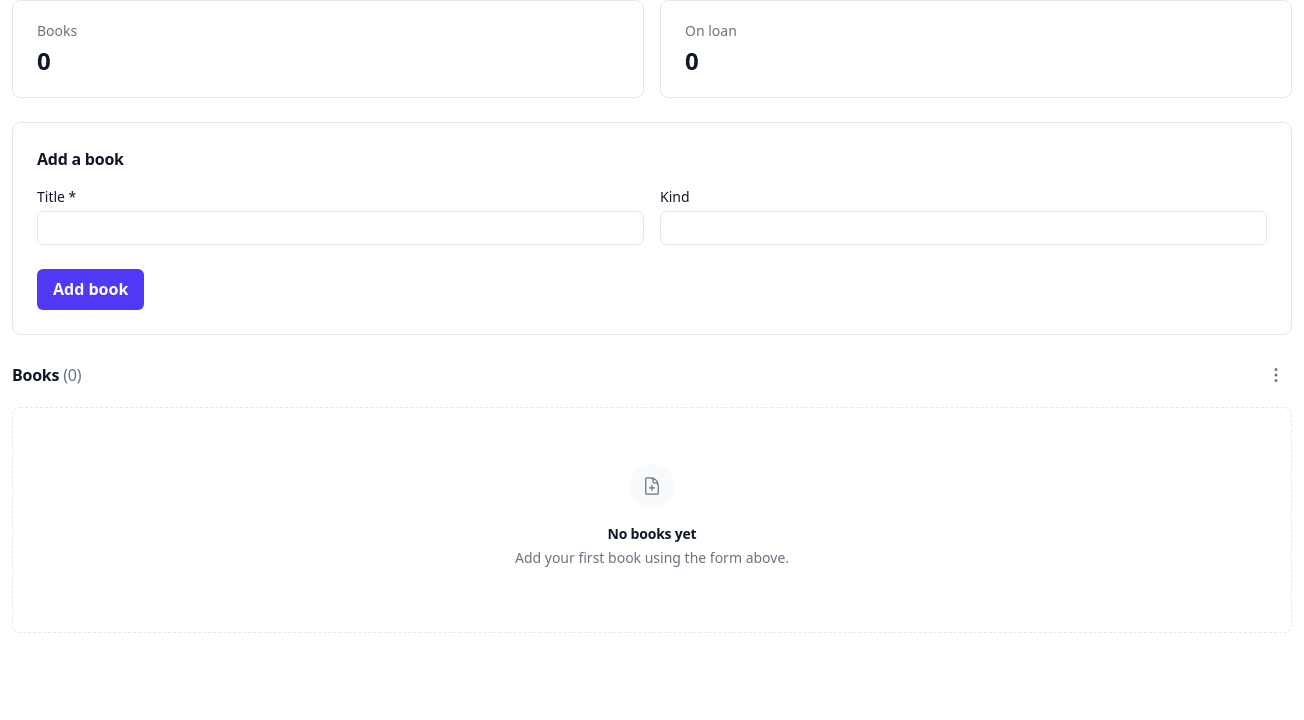
Scenario: row actions › clears the record in one click and survives being clicked again
In the field labelled "Title *": (340, 228) [37,211,644,245], type "Hamlet"
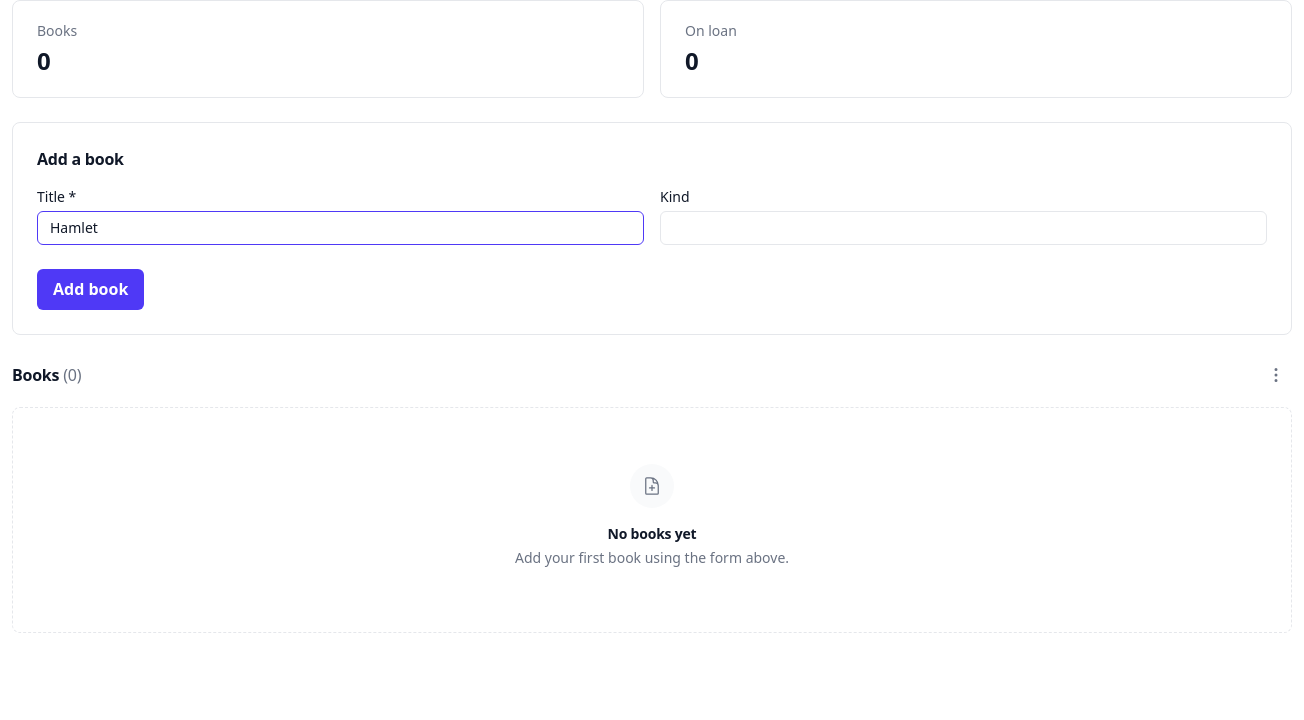
Click the button "Add book": (91, 289) [37,269,144,310]
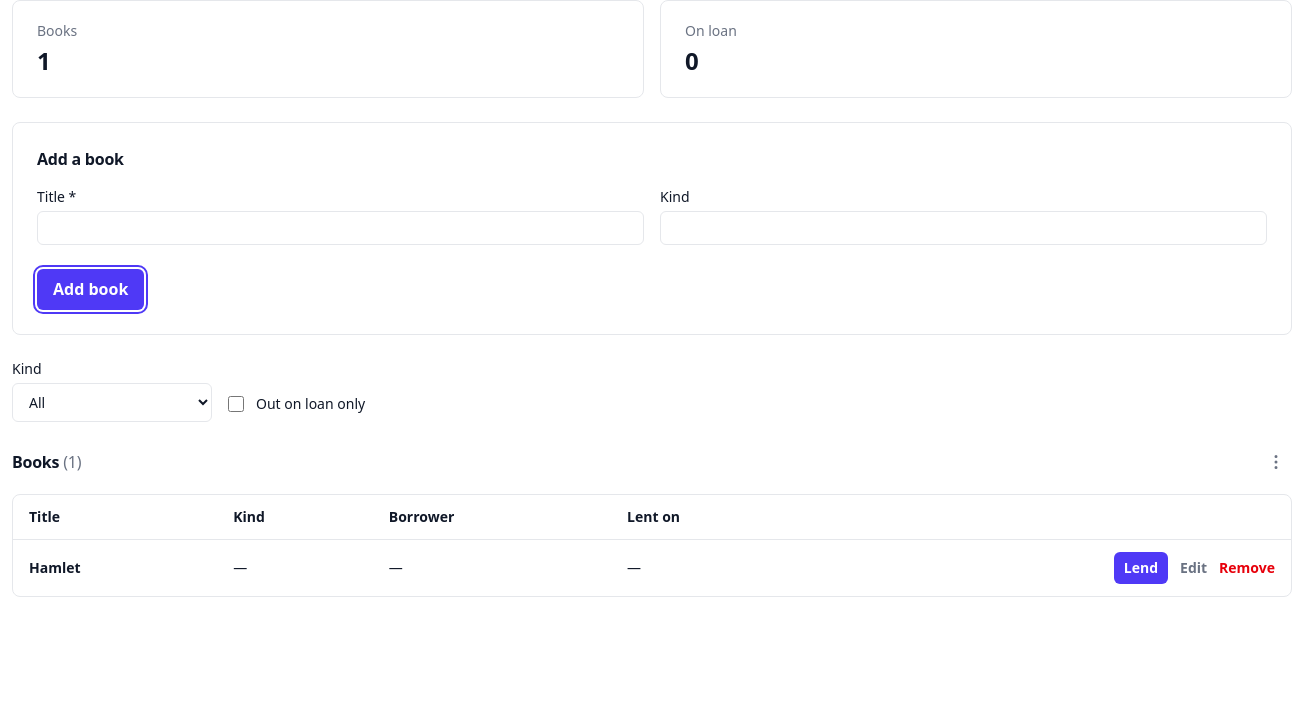
Click the button with aria-label "Lend: Hamlet": (1141, 568) [1114,552,1168,584]
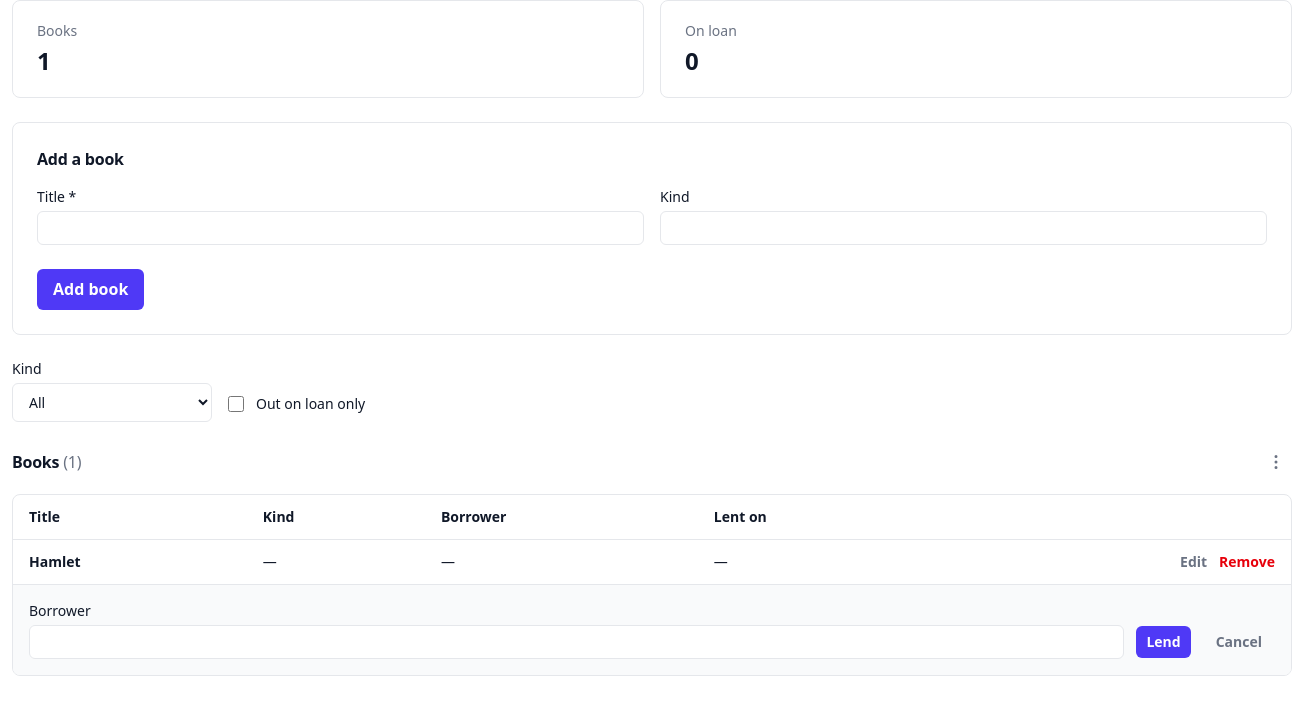
In the field labelled "Borrower": (577, 642) [29,625,1124,659], type "Ada"
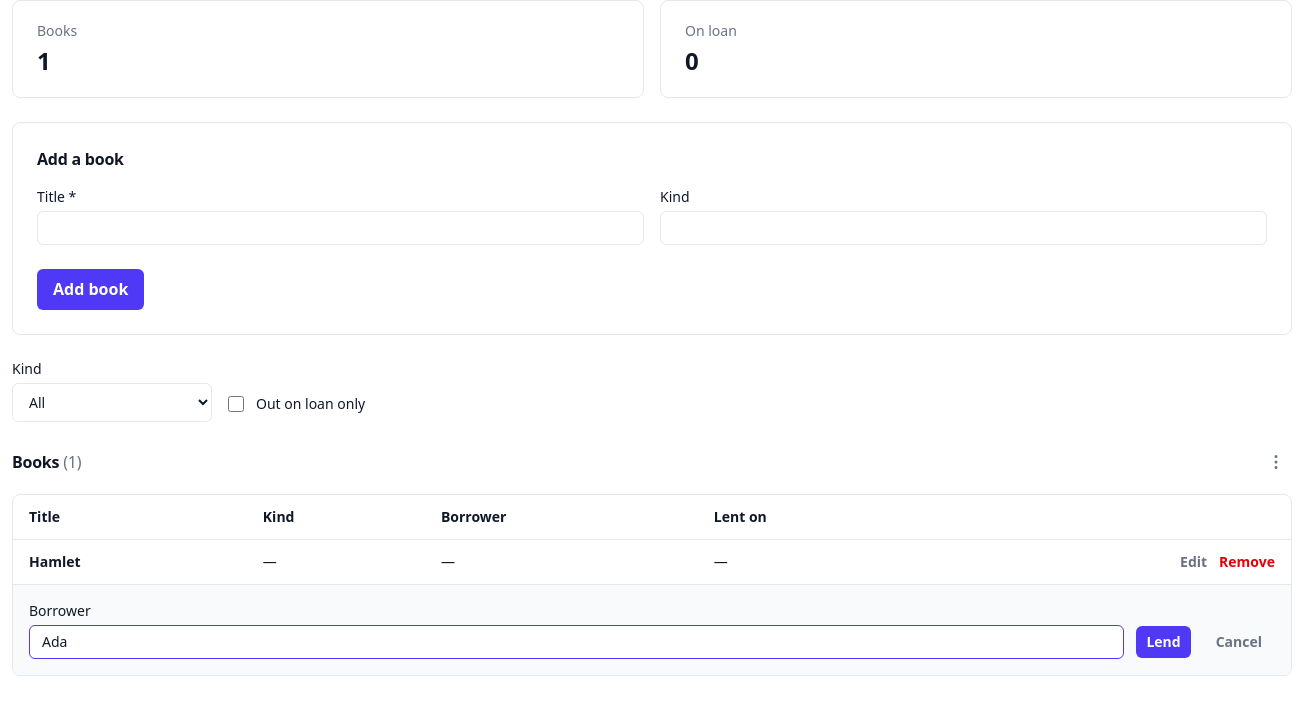
Click the button with aria-label "Confirm lend: Hamlet": (1164, 642) [1136,626,1191,658]
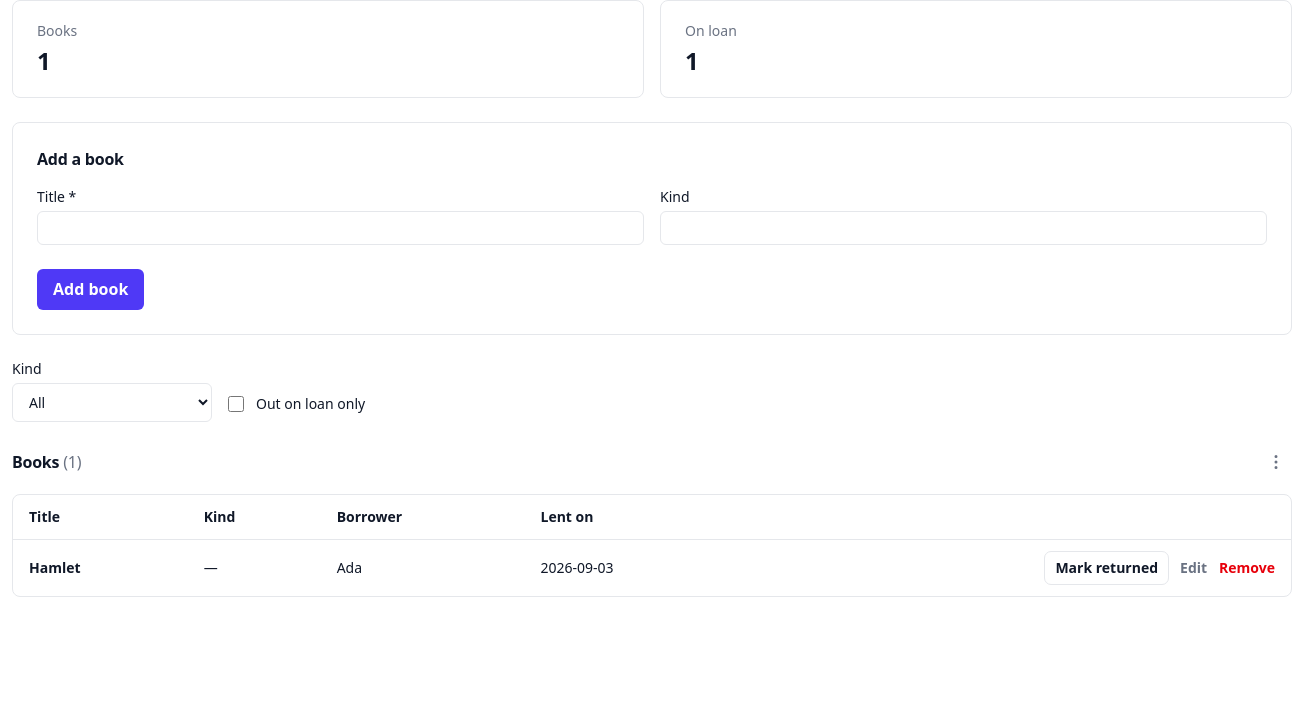
Click the button with aria-label "Mark returned: Hamlet": (1107, 568) [1045,552,1168,584]
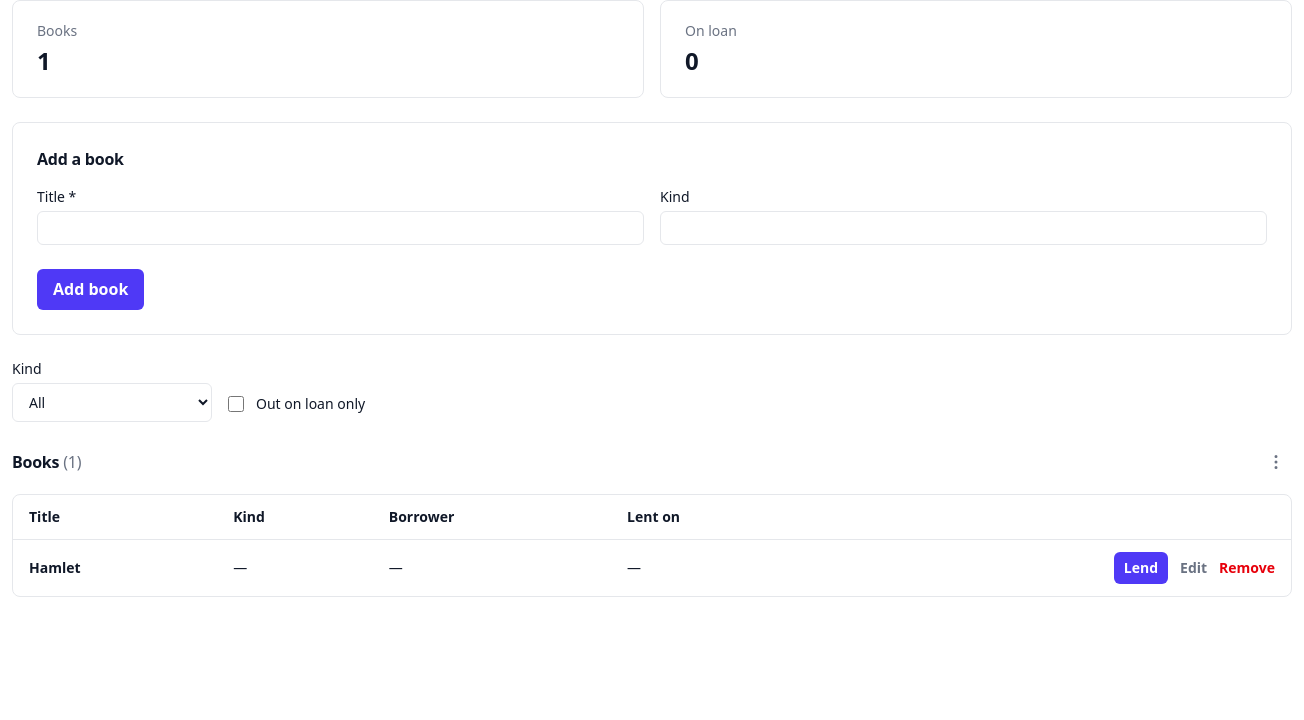
Expected: the table no longer shows "Ada", [13,495,1291,596]
Expected: the text named "On loan" reads "0", [685,44,698,77]
